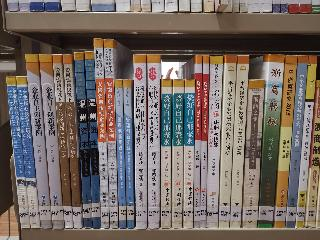book-spine: (24, 53, 52, 231), (225, 55, 251, 229), (39, 53, 64, 230), (259, 54, 283, 230), (273, 55, 297, 230), (284, 55, 308, 229), (5, 75, 32, 229), (71, 51, 94, 230), (15, 74, 40, 230), (52, 54, 74, 230), (295, 56, 317, 229), (216, 54, 237, 229), (241, 80, 265, 228), (63, 54, 83, 230), (204, 54, 224, 228), (93, 38, 110, 229), (103, 37, 118, 230), (85, 50, 101, 229), (132, 56, 148, 230), (147, 55, 161, 229), (112, 79, 127, 229), (191, 54, 203, 228), (122, 79, 136, 227), (183, 79, 195, 228), (161, 79, 172, 228), (171, 80, 182, 229), (200, 54, 209, 228)
